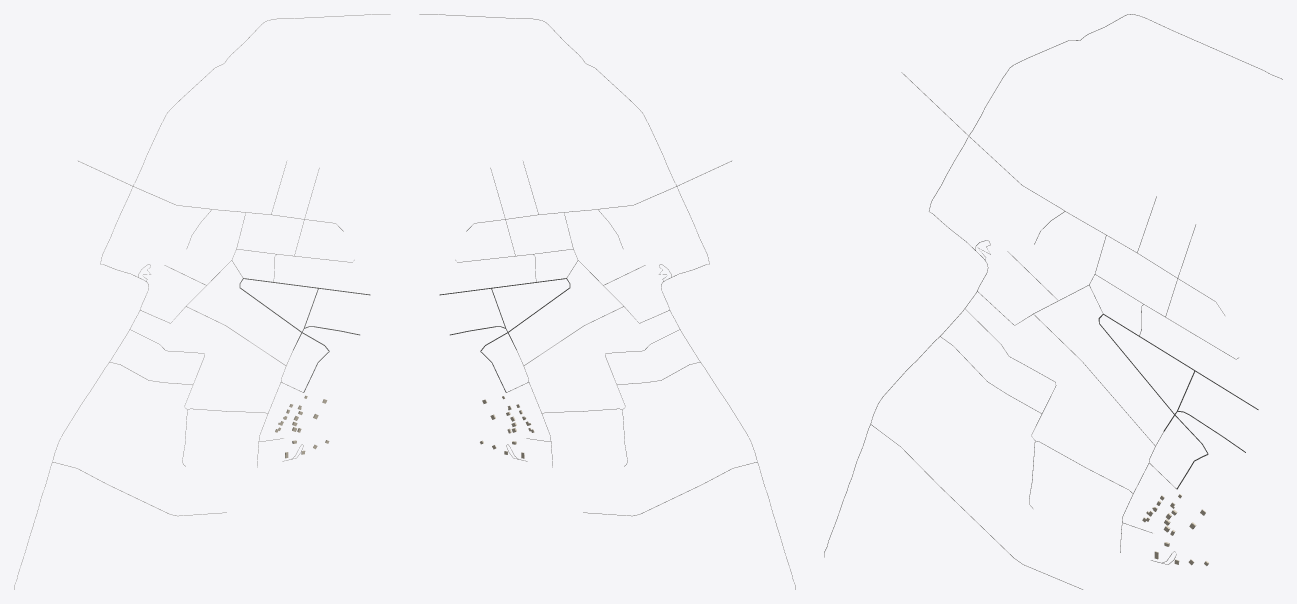
File: historic-palestine-07_29_3489_3235.glb
3 renders of one model, left to right at view 1: azimuth 30°, elevation 25°; view 2: azimuth 150°, elevation 25°; view 3: azimuth 330°, elevation 25°, orthographic. The views are drawn at different scales.
Visible parts, largest first — view 1: Road .004; view 2: Road .004; view 3: Road .004.
Boxes of the visible parts, x1,y1,x2,y2 form: Road .004: [14, 14, 390, 589]; Road .004: [419, 14, 795, 589]; Road .004: [824, 14, 1282, 557].
Size of the model in its own units: 1591 by 2050 by 9.09.
